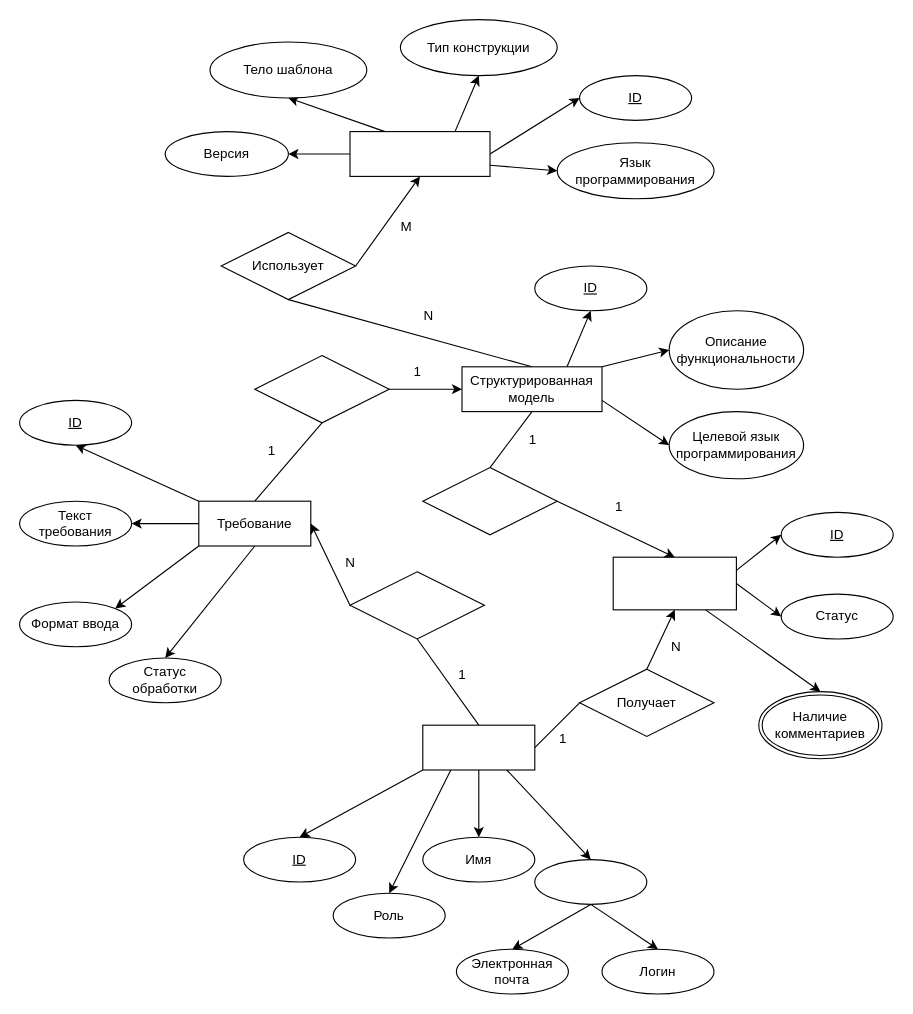
Image size: 913x1014. Some labels were removed from this diagram. The box of each missing label's shape, as (x1, y1, x2, y2) in pixels:
Задает: (349, 571, 484, 639)
Контактные данные: (534, 858, 647, 904)
Пользователь: (422, 724, 535, 770)
Порождает: (422, 466, 557, 535)
Преобразуется: (254, 354, 389, 423)
Сгенерированный код: (612, 556, 736, 610)
Шаблон кода: (349, 130, 490, 176)
